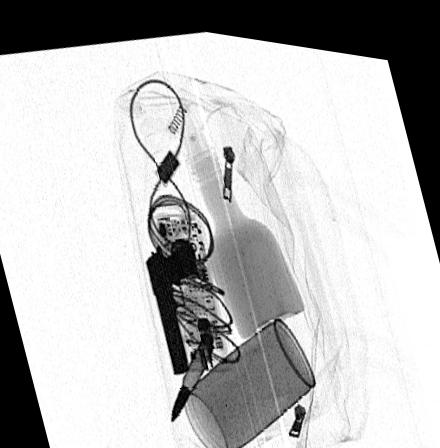Bullet: (171, 334, 214, 419)
Gun: (145, 234, 200, 371)
